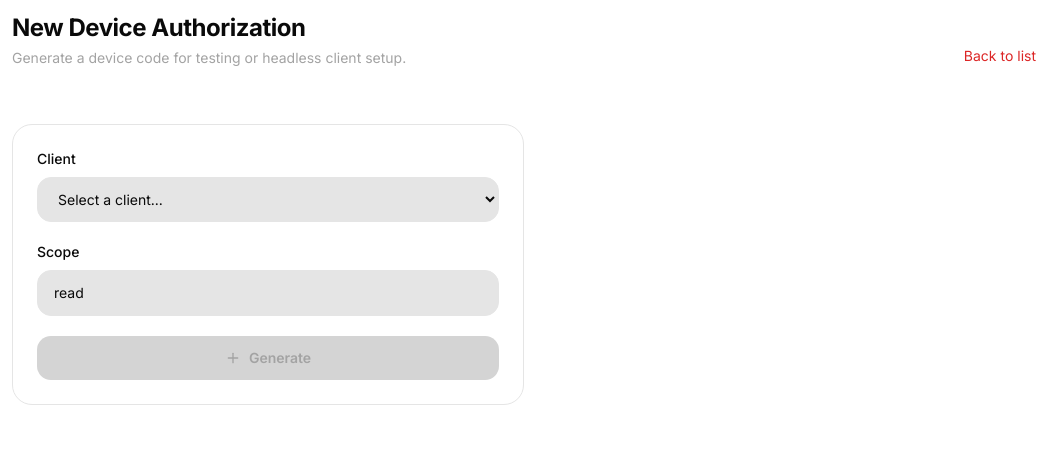
Test: DeviceAuthNewTool › surfaces a generation failure
Select "App One" in the dropdown. click: (268, 200)
box: [37, 177, 499, 222]
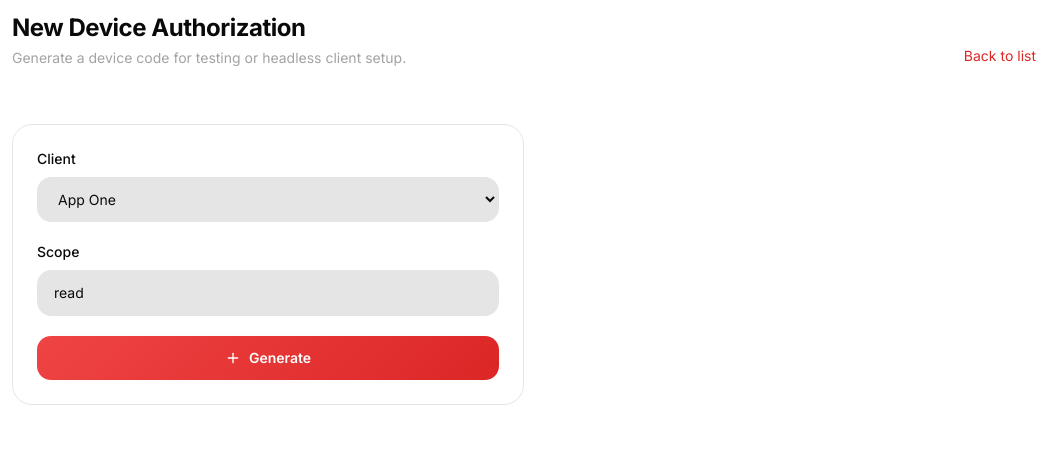
Click the button "Generate". click: (268, 358)
box: [37, 336, 499, 380]
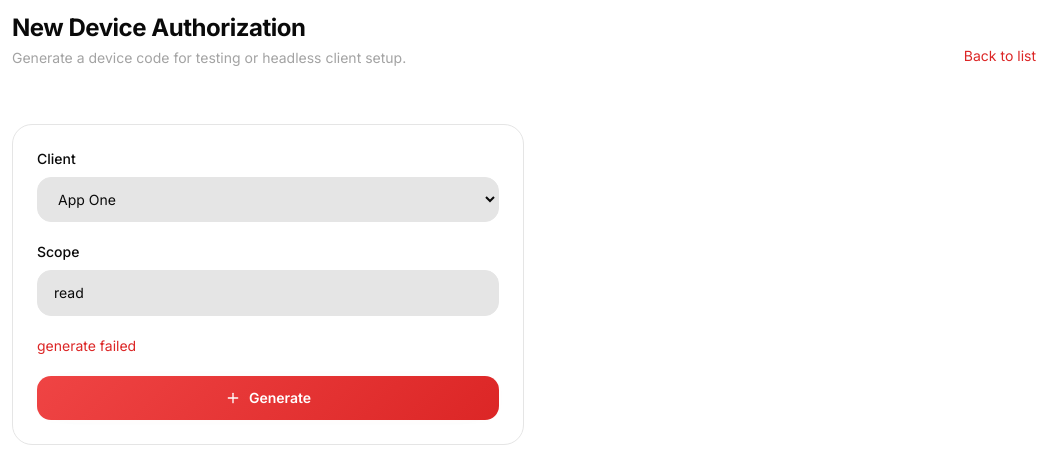
Expected: the message reads "generate failed", [37, 337, 136, 354]
